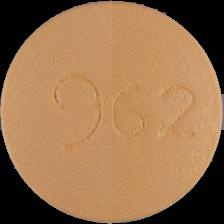76237-401: (0, 0, 224, 224)
